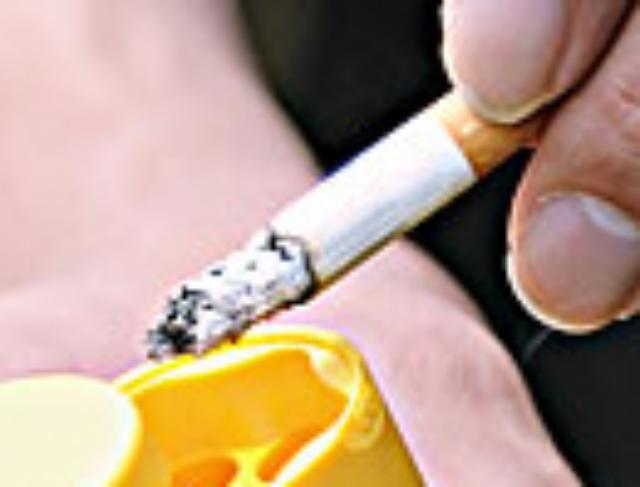Cigarette: (139, 41, 586, 365)
